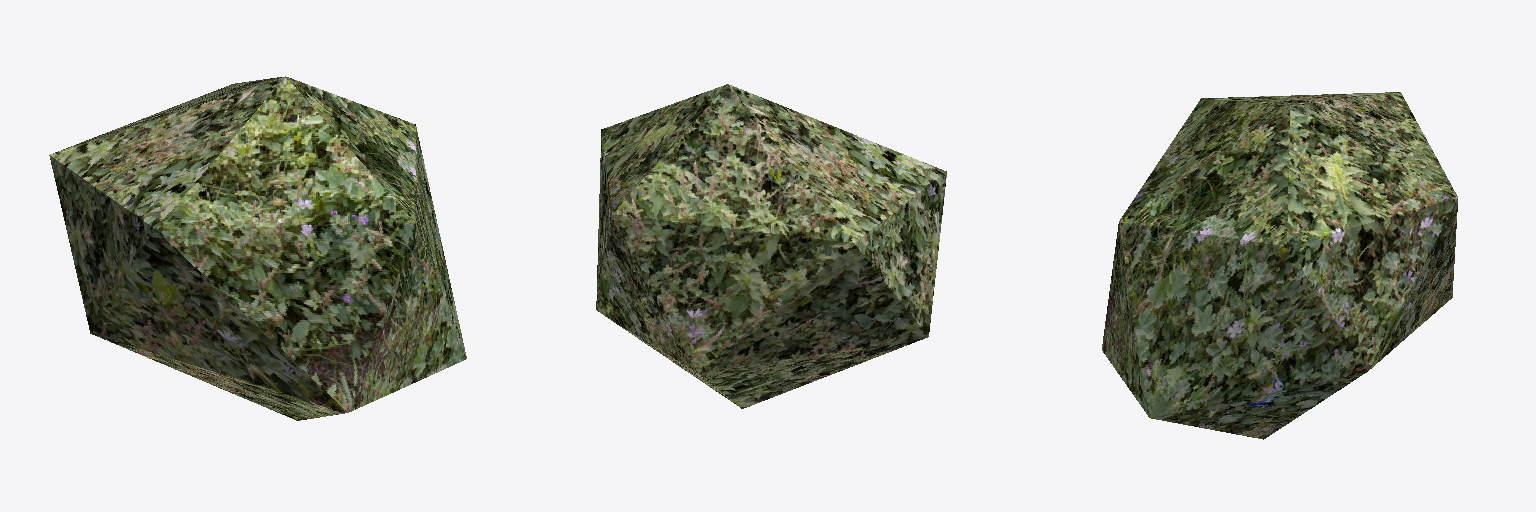
The picture shows the model from 3 angles: view 1: azimuth 30°, elevation 25°; view 2: azimuth 150°, elevation 25°; view 3: azimuth 270°, elevation 25°; orthographic projection.
Visible parts, largest first — view 1: Icosphere; view 2: Icosphere; view 3: Icosphere.
Part boxes in pixels (bbox=[...]): Icosphere: bbox=[49, 76, 466, 420]; Icosphere: bbox=[596, 84, 946, 408]; Icosphere: bbox=[1102, 92, 1457, 439].
Size of the model in its own units: 0.3138 by 0.3072 by 0.2968.
Materials: 1 (1 with a texture image).